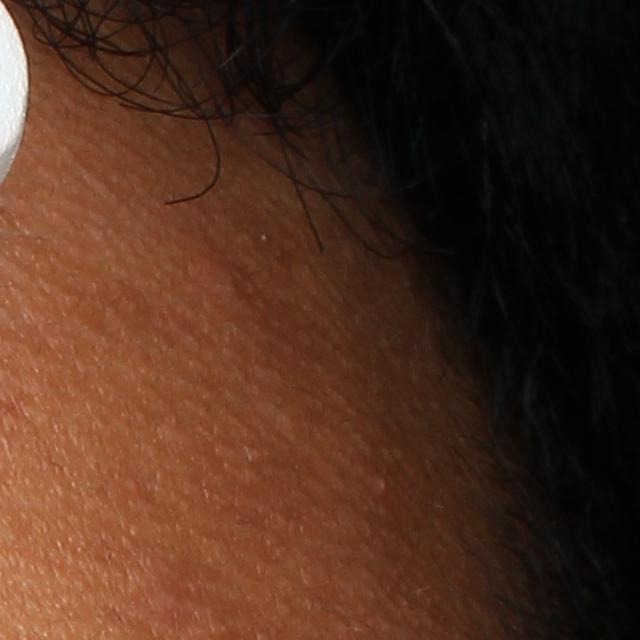comedo: (374, 473, 390, 494)
papule: (201, 250, 247, 303)
